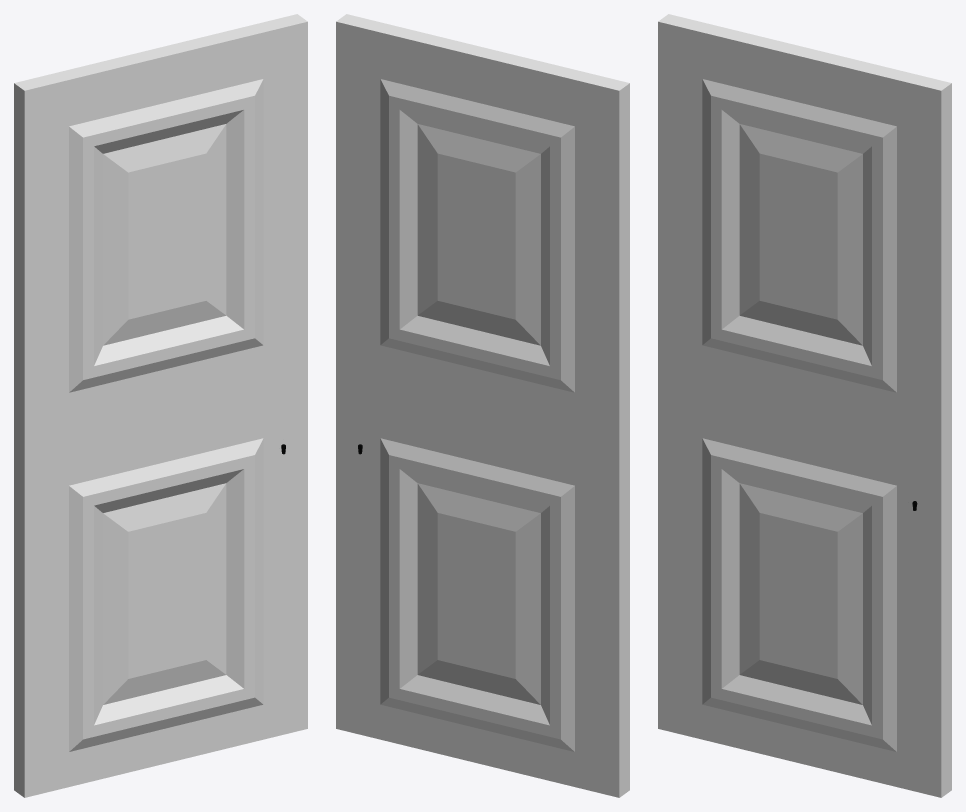
The model's file is Door03.fbx.
The picture shows the model from 3 angles, left to right: view 1: azimuth 30°, elevation 25°; view 2: azimuth 150°, elevation 25°; view 3: azimuth 330°, elevation 25°; orthographic projection.
Visible parts, largest first — view 1: Door03; view 2: Door03; view 3: Door03.
Part boxes in pixels (x1,y1,x2,y2): Door03: (14,14,307,797); Door03: (336,14,629,797); Door03: (658,14,951,797).
Bounding box in the file's own units: 78 × 186 × 7.71.
